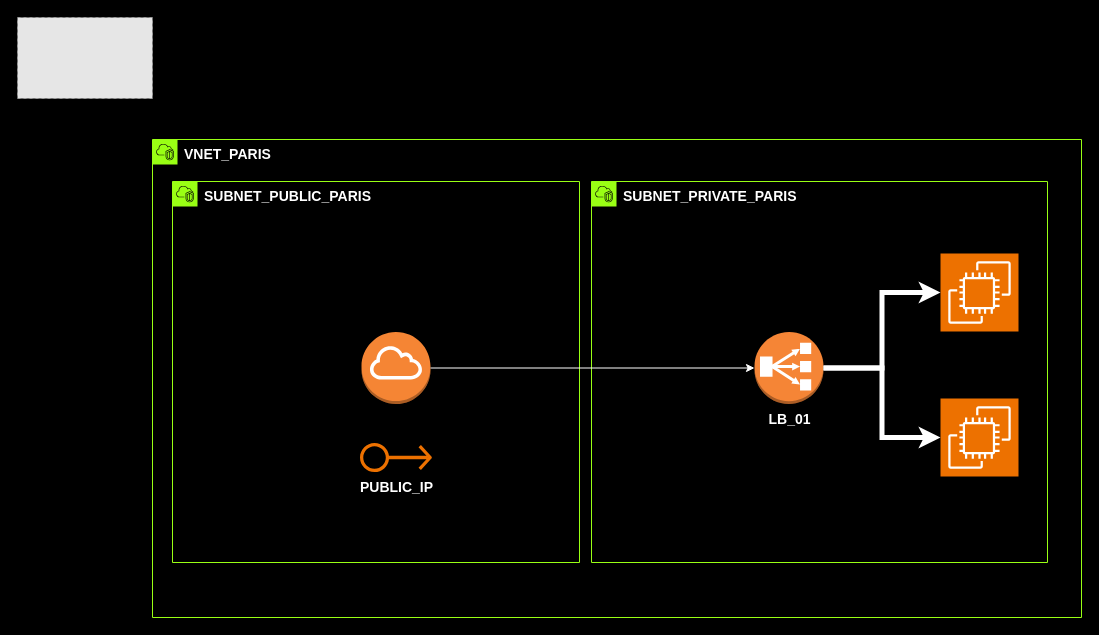
Image size: 1099x635. Some labels were removed from this diagram. Grey dashed boxes stand in for pictures. The shapes that lost their labels are listed below. From the top down, each one's centre as x and y in pixels, then its label:
At (979,292): "apache-server-01".
At (395,367): "EXT_GTW".
At (979,437): "apache-server-00".
